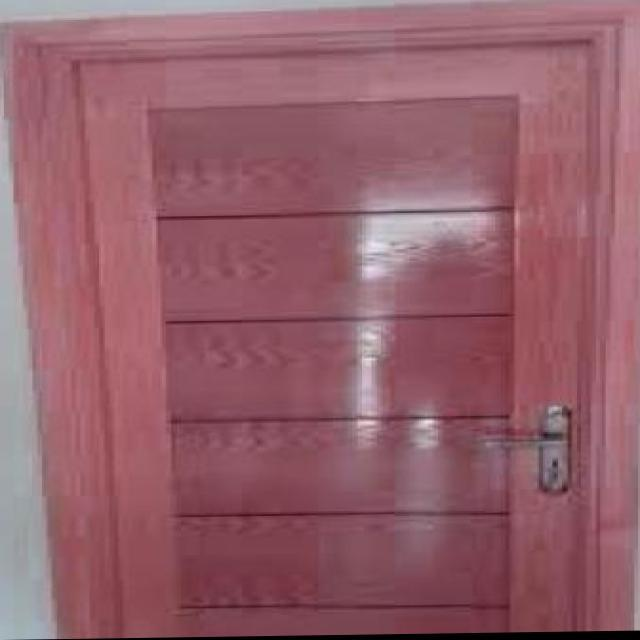door_handle: (479, 432, 574, 459)
